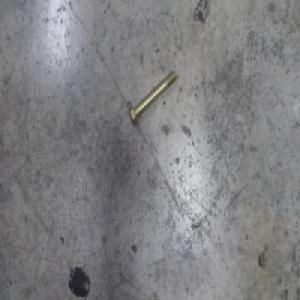Bolt: (128, 69, 178, 126)
